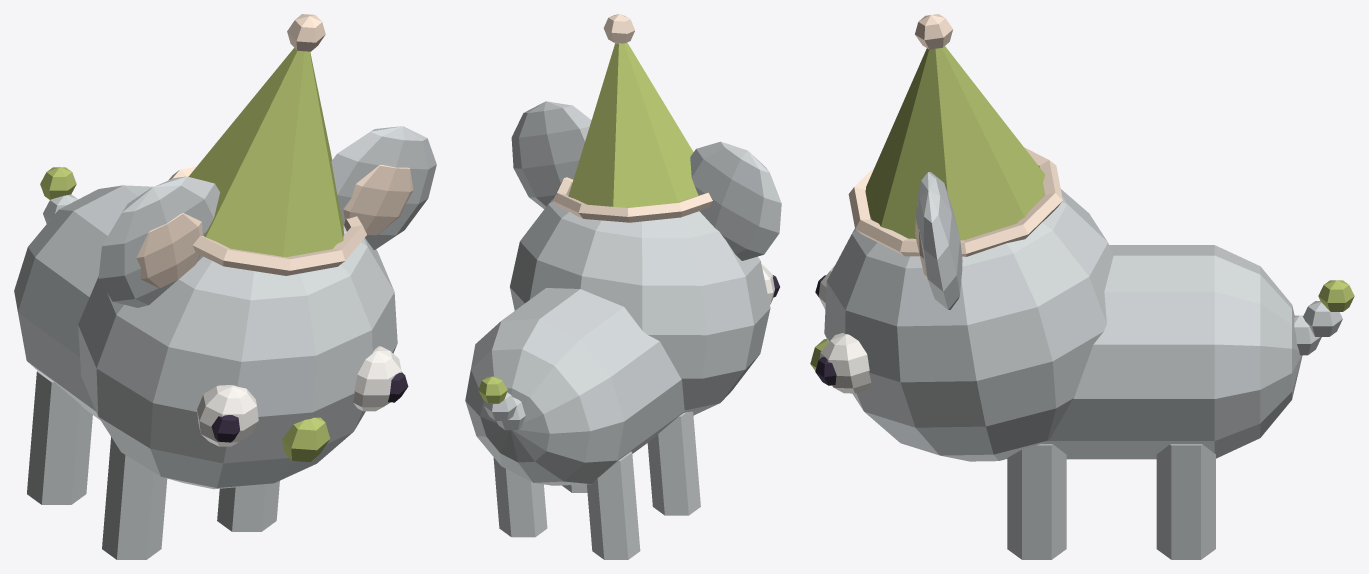
Rendered from bean-factory-1.glb.
3 views of the same model, side by side, from view 1: azimuth 30°, elevation 25°; view 2: azimuth 150°, elevation 25°; view 3: azimuth 270°, elevation 25° (orthographic). The views are drawn at different scales.
Visible parts, largest first — view 1: bean-factory-1; view 2: bean-factory-1; view 3: bean-factory-1.
Part boxes in pixels (left/top/right/bottom): bean-factory-1: left=14, top=14, right=436, bottom=559; bean-factory-1: left=465, top=14, right=781, bottom=559; bean-factory-1: left=810, top=14, right=1354, bottom=559.
Size of the model in its own units: 0.5742 by 0.8863 by 0.8119.
